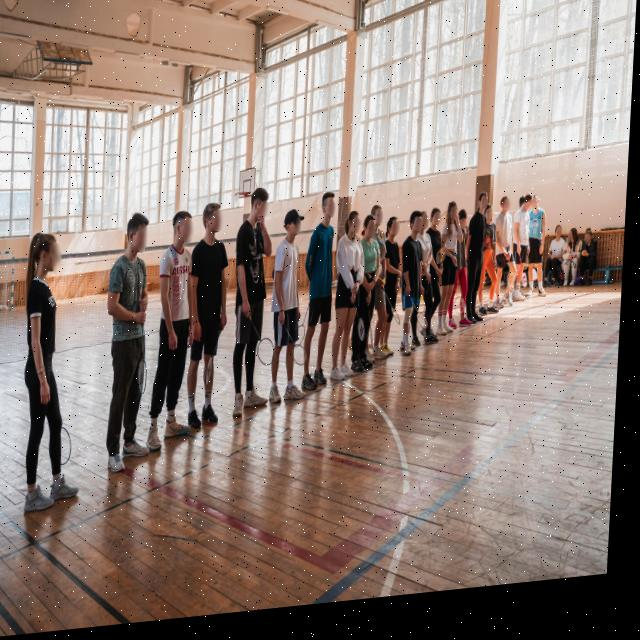Person: (9, 215, 101, 534), (100, 206, 163, 487), (220, 181, 282, 438), (150, 206, 202, 457), (190, 192, 237, 445), (268, 203, 312, 418), (303, 192, 347, 406), (332, 211, 373, 395), (354, 222, 384, 390), (378, 216, 408, 376), (464, 194, 494, 349), (398, 214, 427, 368), (366, 209, 392, 376), (423, 208, 446, 374), (440, 193, 463, 358), (509, 196, 538, 324), (491, 201, 518, 329), (416, 220, 436, 362), (527, 204, 552, 311), (481, 211, 501, 337), (545, 229, 573, 309), (563, 227, 590, 298), (580, 236, 605, 298)
